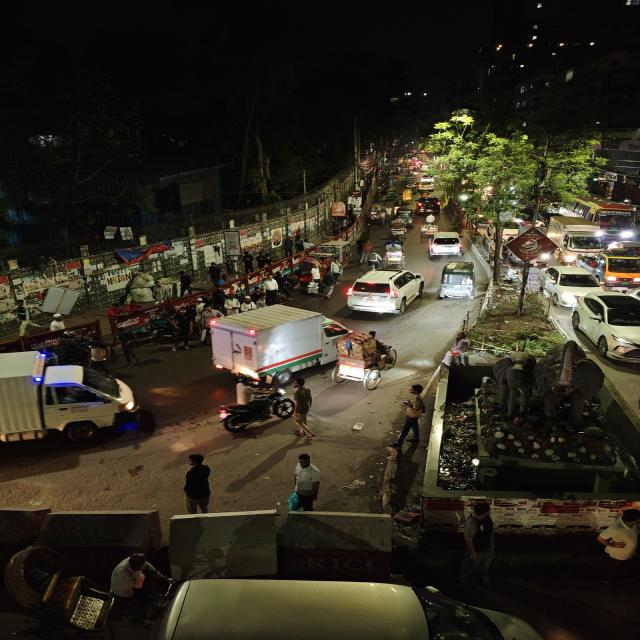bus: (573, 196, 640, 238)
car: (570, 290, 640, 372), (343, 266, 427, 320), (540, 264, 604, 304), (425, 232, 466, 260), (416, 199, 443, 214)
cng: (437, 260, 479, 302), (397, 206, 413, 224)
motorcycle: (212, 378, 291, 437)
pedestrian: (597, 511, 640, 591), (173, 451, 217, 518), (288, 452, 326, 512), (289, 376, 317, 445), (398, 386, 429, 446), (165, 310, 198, 350), (457, 514, 487, 558), (82, 342, 117, 372), (197, 307, 220, 337), (207, 287, 231, 315), (260, 275, 282, 305), (319, 267, 339, 299), (355, 237, 374, 266), (206, 262, 228, 287), (255, 278, 270, 306), (365, 249, 383, 270)
pickup_van: (593, 244, 640, 286)
rickshaw: (331, 328, 397, 391), (381, 238, 408, 266), (418, 216, 441, 238), (386, 219, 411, 239), (366, 204, 386, 226)
truck: (0, 343, 153, 449), (207, 304, 342, 382), (546, 216, 608, 258)
